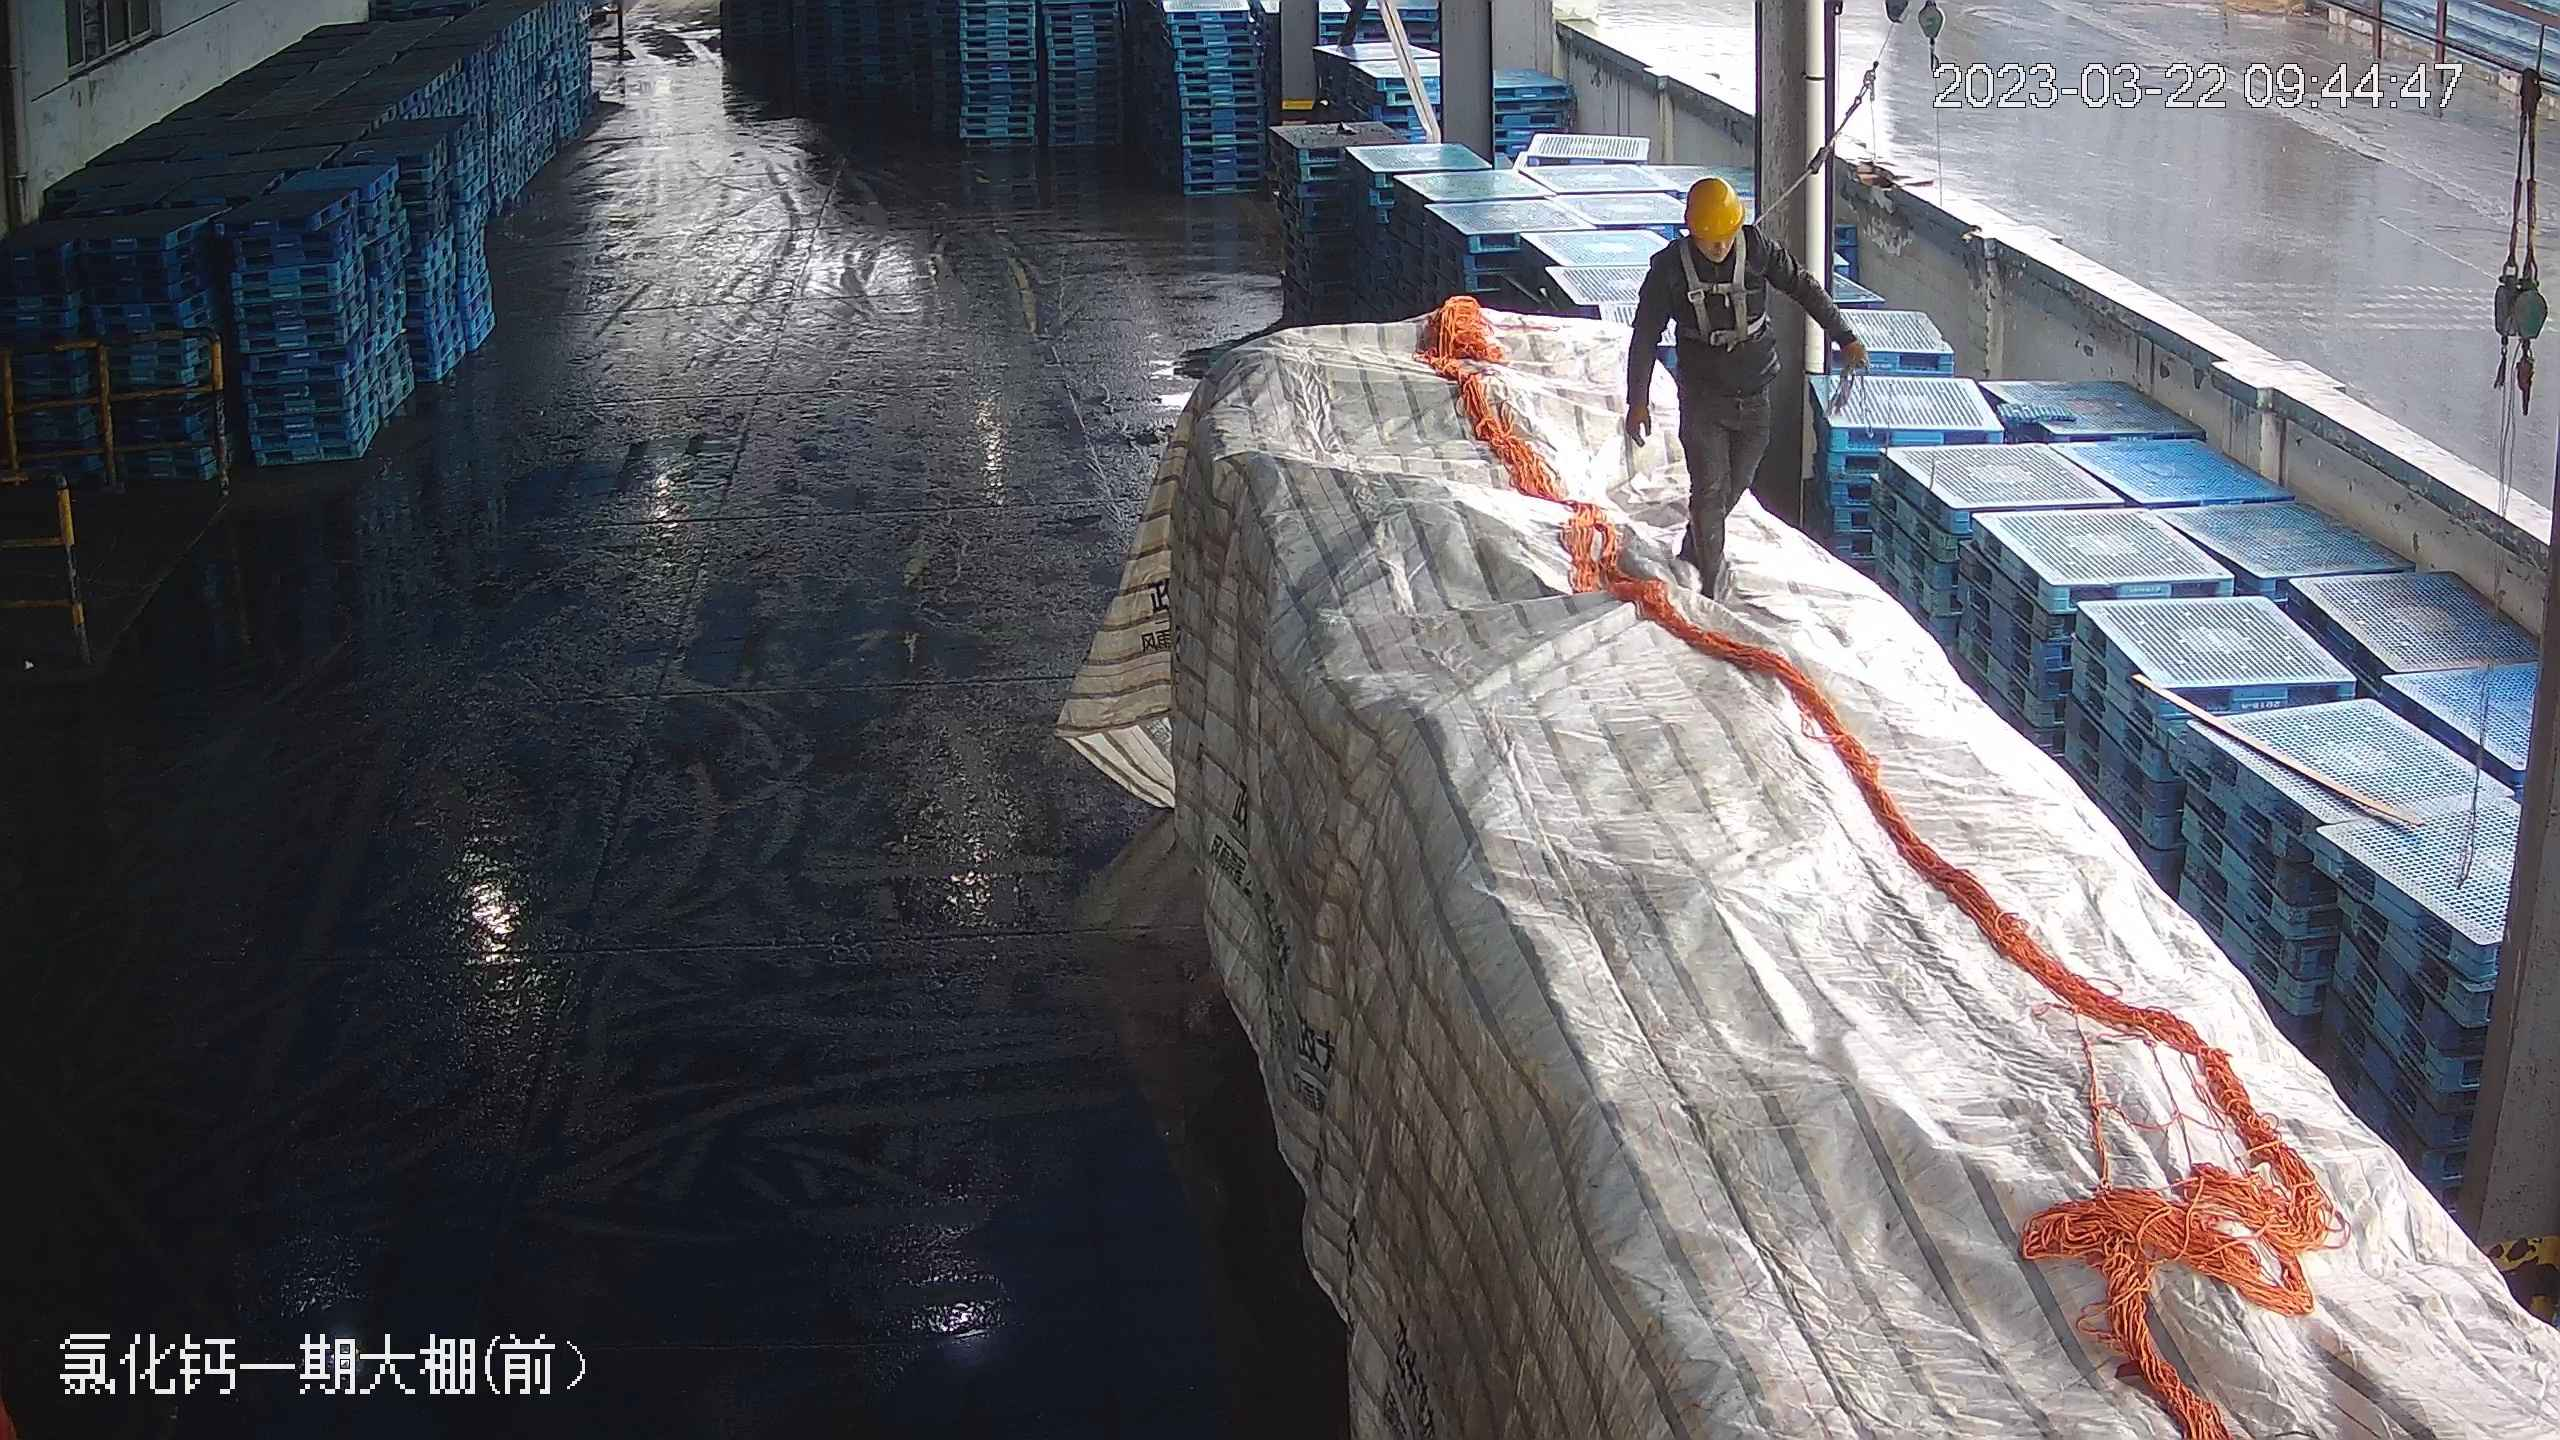belt: (1676, 236, 1768, 347)
head: (1646, 174, 1797, 305)
helmet: (1682, 174, 1747, 241)
people: (1623, 172, 1871, 603)
truck: (1097, 164, 2533, 1440)
